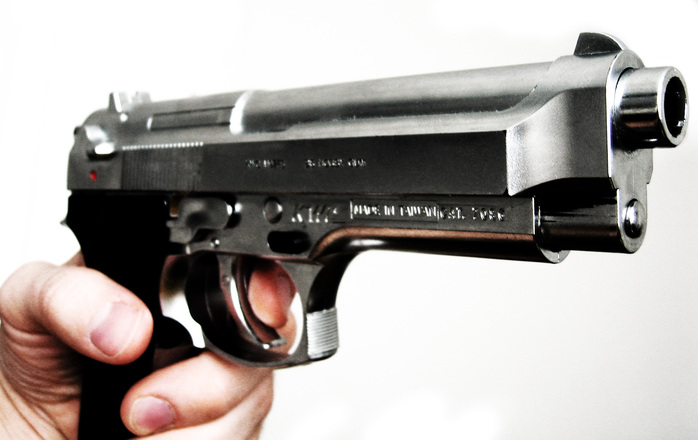pistol: (1, 29, 698, 439)
